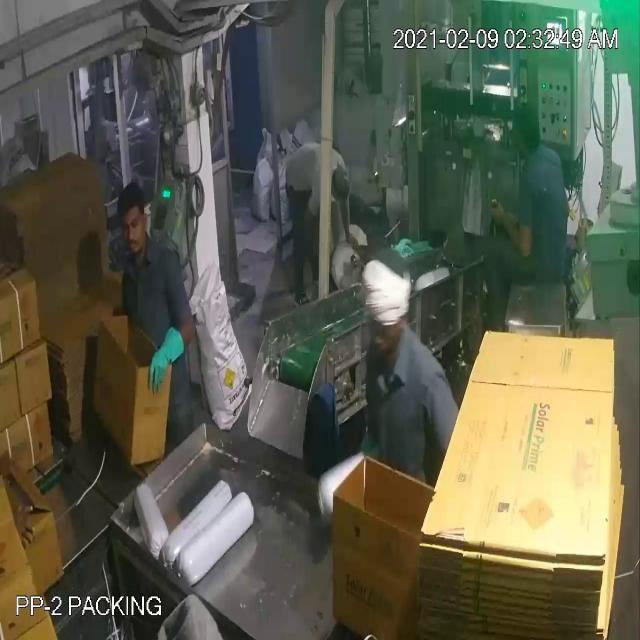Gloves: (50, 94, 512, 357)
